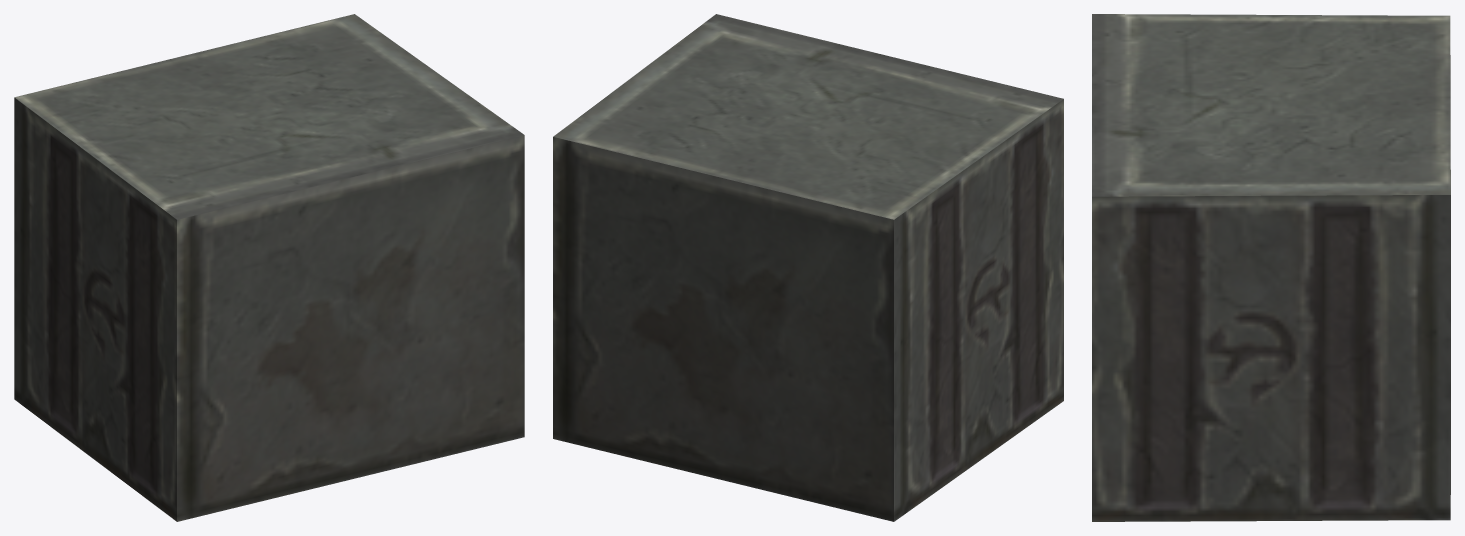
The model's file is F_shizhu006.fbx.
The picture shows the model from 3 angles, left to right: view 1: azimuth 30°, elevation 25°; view 2: azimuth 150°, elevation 25°; view 3: azimuth 270°, elevation 25°; orthographic projection. The views are drawn at different scales.
Visible parts, largest first — view 1: F_shizhu006; view 2: F_shizhu006; view 3: F_shizhu006.
Part boxes in pixels (left/top/right/bottom): F_shizhu006: left=14, top=14, right=524, bottom=521; F_shizhu006: left=553, top=14, right=1063, bottom=521; F_shizhu006: left=1092, top=14, right=1450, bottom=521.
Size of the model in its own units: 72.83 by 60.48 by 60.46.
